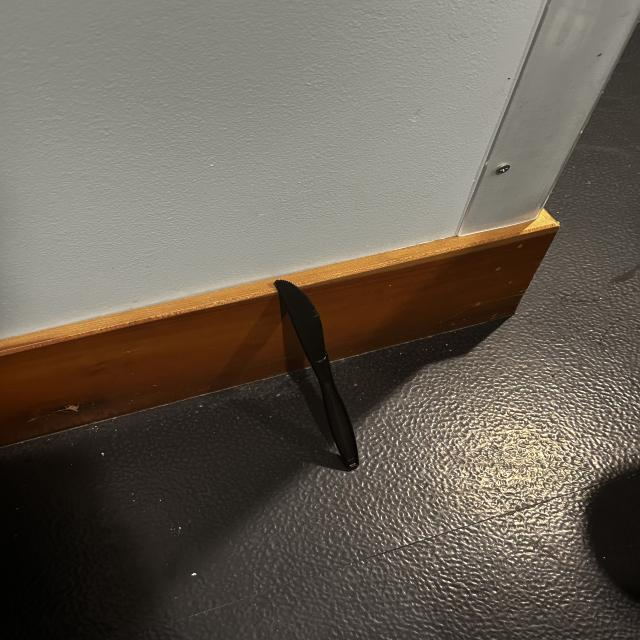knife: (237, 251, 421, 478)
